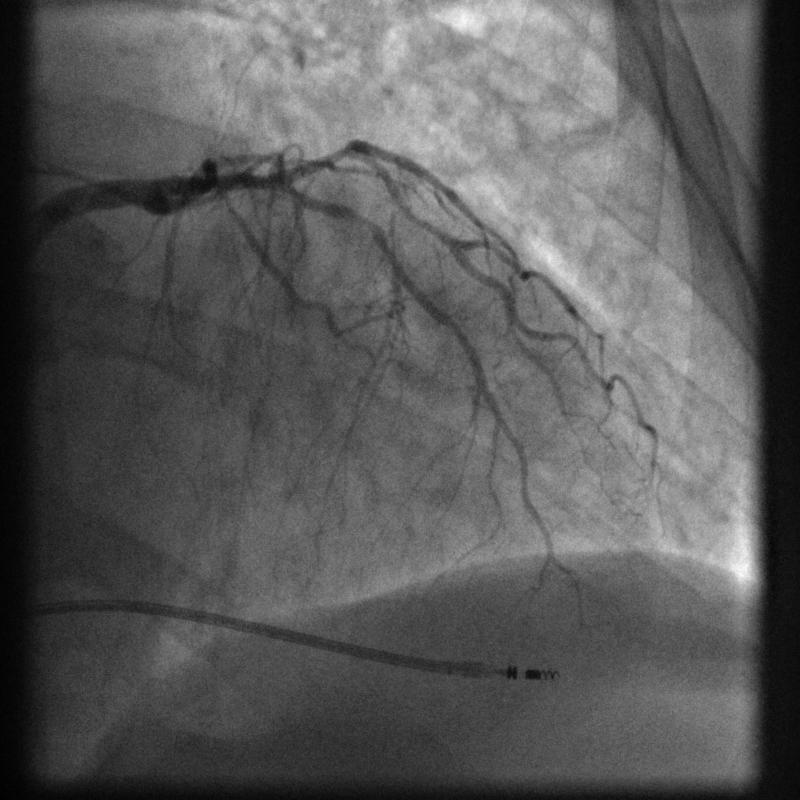Stenosis: (338, 205, 386, 253)
